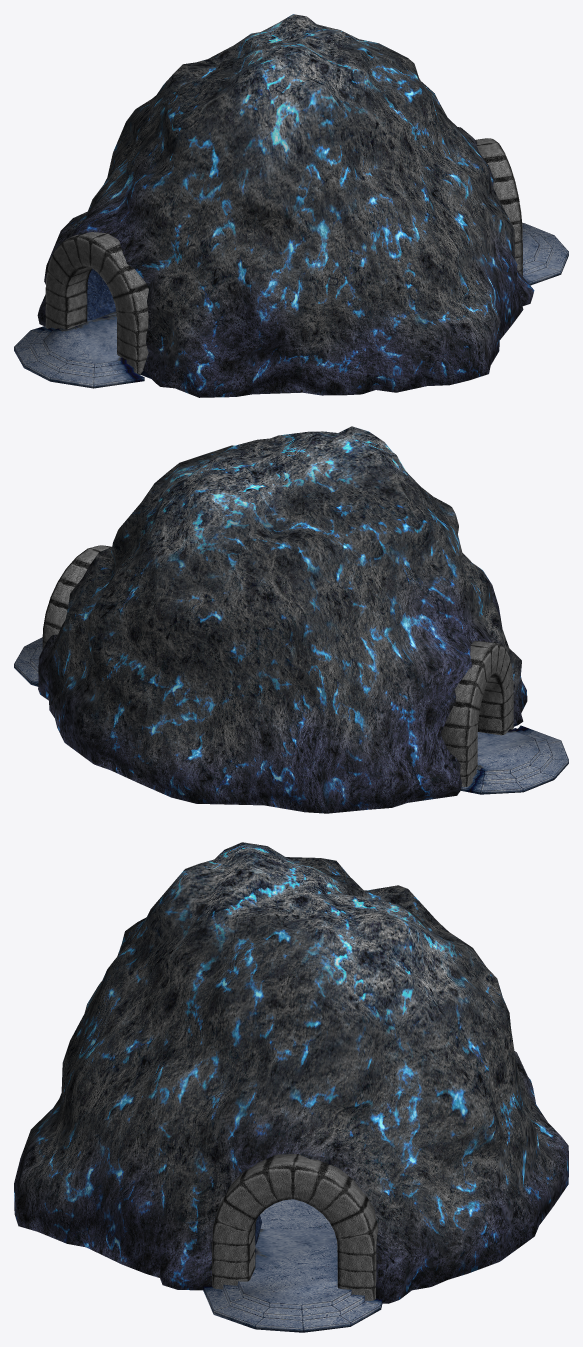
The model's file is cave entrance.fbx.
3 renders of one model, top to bottom at view 1: azimuth 30°, elevation 25°; view 2: azimuth 150°, elevation 25°; view 3: azimuth 270°, elevation 25°, orthographic. The views are drawn at different scales.
Visible parts, largest first — view 1: cave 01; view 2: cave 01; view 3: cave 01.
Part boxes in pixels (x1,y1,x2,y2): cave 01: [14, 14, 568, 397]; cave 01: [14, 426, 568, 813]; cave 01: [14, 842, 568, 1332].
Size of the model in its own units: 725 by 356 by 564.
1 material, 1 textured.
